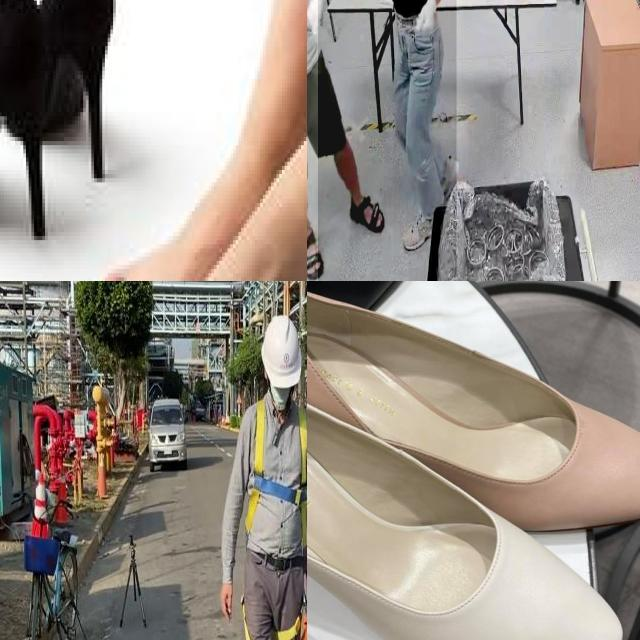Harness: (247, 399, 307, 548)
Sandals: (307, 332, 633, 640), (307, 281, 640, 544)
hand_glove: (413, 0, 440, 52), (307, 0, 327, 41)
person: (318, 0, 457, 281), (307, 0, 394, 281)
shoes: (402, 201, 442, 256)
